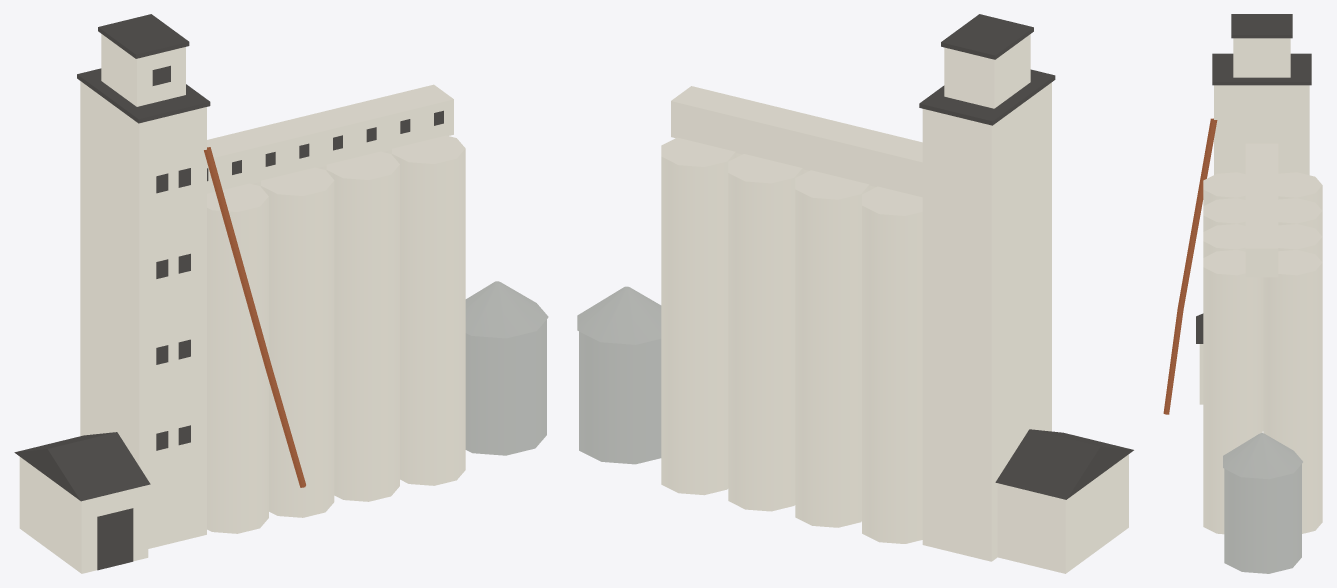
The model's file is Blender_GrainElevator_1_Far.glb.
3 views of the same model, side by side, from view 1: azimuth 30°, elevation 25°; view 2: azimuth 150°, elevation 25°; view 3: azimuth 270°, elevation 25° (orthographic). The views are drawn at different scales.
Visible parts, largest first — view 1: Blender_GrainElevator_1_Far; view 2: Blender_GrainElevator_1_Far; view 3: Blender_GrainElevator_1_Far.
Boxes of the visible parts, bbox=[...] form: Blender_GrainElevator_1_Far: bbox=[14, 14, 548, 573]; Blender_GrainElevator_1_Far: bbox=[577, 14, 1133, 573]; Blender_GrainElevator_1_Far: bbox=[1163, 14, 1322, 573].
Bounding box in the file's own units: 48.88 × 45.4 × 16.63.
